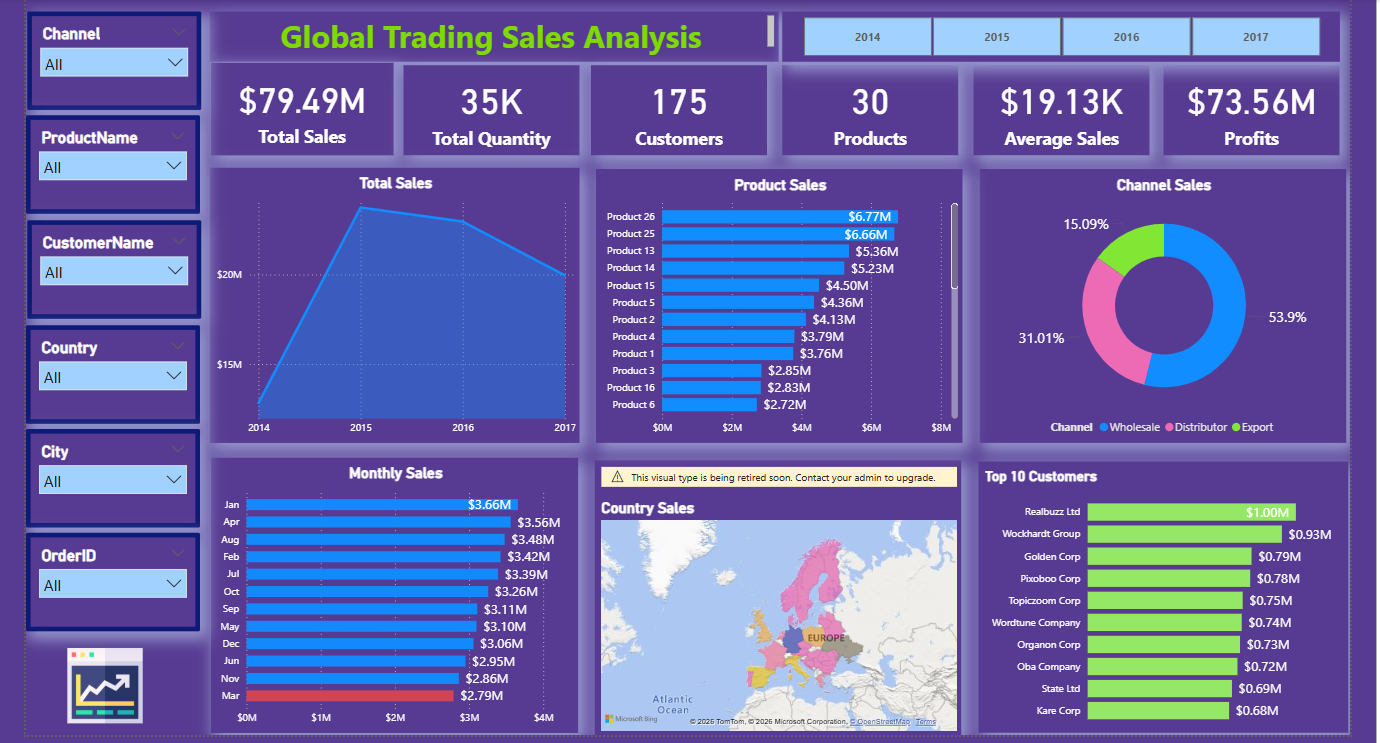

The dashboard page shown, as its layout file describes it:
{"tool":"powerbi","page":{"name":"Key_Insights","canvas":[1600,890],"ordinal":0},"visuals":[{"type":"textbox","box":[222.2,15.1,687.8,60.5],"z":0},{"type":"image","box":[21.2,780,148.1,101.3],"z":1000},{"type":"card","fields":{"Values":["Measures Table.Total Sales"]},"box":[223.7,77.1,220.7,111.9],"z":2000},{"type":"card","fields":{"Values":["Measures Table.Total Quantity"]},"box":[456.5,80.1,213.1,108.8],"z":3000},{"type":"card","fields":{"Values":["CountNonNull(salesdb customers.CustomerID)"]},"box":[683.2,80.1,213.1,108.8],"z":4000},{"type":"card","fields":{"Values":["CountNonNull(salesdb products.ProductID)"]},"box":[914.5,80.1,213.1,108.8],"z":5000},{"type":"card","fields":{"Values":["Measures Table.Average Sales"]},"box":[1145.8,80.1,213.1,108.8],"z":6000},{"type":"card","fields":{"Values":["Sum(salesdb orders.Profit)"]},"box":[1375.5,80.1,213.1,108.8],"z":7000},{"type":"areaChart","title":"Total Sales","fields":{"Y":["Sum(salesdb orders.LineTotal)"],"Category":["Date Table.Year"]},"box":[222.2,204.1,447.4,332.5],"z":8000},{"type":"donutChart","title":"Channel Sales","fields":{"Y":["Sum(salesdb orders.LineTotal)"],"Category":["salesdb orders.Channel"],"Series":["salesdb orders.Channel"]},"box":[1153.3,205.6,442.9,331],"z":9000},{"type":"barChart","title":"Monthly Sales","fields":{"Y":["Measures Table.Total Sales"],"Category":["Date Table.Month Name"]},"box":[223.7,554.7,444.4,332.5],"z":10000},{"type":"filledMap","title":"Country Sales","fields":{"Category":["salesdb regions.Country"]},"box":[687.8,557.4,442.9,332.5],"z":11000},{"type":"clusteredBarChart","title":"Product Sales","fields":{"Category":["salesdb products.ProductName"],"Y":["Sum(salesdb orders.LineTotal)"]},"box":[689.3,205.6,442.9,331],"z":12000},{"type":"slicer","fields":{"Values":["salesdb orders.Channel"]},"box":[1.5,15.1,210.1,119.4],"z":13000},{"type":"slicer","fields":{"Values":["salesdb products.ProductName"]},"box":[0,140.6,210.1,119.4],"z":14000},{"type":"slicer","fields":{"Values":["salesdb customers.CustomerName"]},"box":[1.5,267.5,210.1,119.4],"z":15000},{"type":"slicer","fields":{"Values":["salesdb regions.Country"]},"box":[0,394.5,210.1,119.4],"z":16000},{"type":"slicer","fields":{"Values":["salesdb regions.City"]},"box":[0,520,210.1,119.4],"z":17000},{"type":"slicer","fields":{"Values":["salesdb orders.OrderID"]},"box":[0,645.4,210.1,119.4],"z":18000},{"type":"slicer","fields":{"Values":["Date Table.Year"]},"box":[914.5,15.1,674.2,60.5],"z":19000},{"type":"barChart","title":"Top 10 Customers","fields":{"Category":["salesdb customers.CustomerName"],"Y":["Measures Table.Total Sales"]},"box":[1151.8,559.3,447.4,328],"z":20000}]}

Visuals, with their boxes on the page's 1600x890 design canvas (x1, y1, x2, y2). These are canvas units, not pixel positions in the 1380x743 screenshot, which may show the page scaled, cropped or inside an application window:
textbox: crop(222, 15, 910, 76)
image: crop(21, 780, 169, 881)
card - Measures Table.Total Sales: crop(224, 77, 444, 189)
card - Measures Table.Total Quantity: crop(456, 80, 670, 189)
card - CountNonNull(salesdb customers.CustomerID): crop(683, 80, 896, 189)
card - CountNonNull(salesdb products.ProductID): crop(914, 80, 1128, 189)
card - Measures Table.Average Sales: crop(1146, 80, 1359, 189)
card - Sum(salesdb orders.Profit): crop(1376, 80, 1589, 189)
"Total Sales" areaChart: crop(222, 204, 670, 537)
"Channel Sales" donutChart: crop(1153, 206, 1596, 537)
"Monthly Sales" barChart: crop(224, 555, 668, 887)
"Country Sales" filledMap: crop(688, 557, 1131, 890)
"Product Sales" clusteredBarChart: crop(689, 206, 1132, 537)
slicer - salesdb orders.Channel: crop(2, 15, 212, 134)
slicer - salesdb products.ProductName: crop(0, 141, 210, 260)
slicer - salesdb customers.CustomerName: crop(2, 268, 212, 387)
slicer - salesdb regions.Country: crop(0, 394, 210, 514)
slicer - salesdb regions.City: crop(0, 520, 210, 639)
slicer - salesdb orders.OrderID: crop(0, 645, 210, 765)
slicer - Date Table.Year: crop(914, 15, 1589, 76)
"Top 10 Customers" barChart: crop(1152, 559, 1599, 887)
